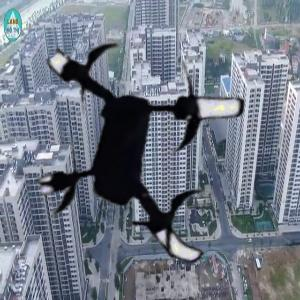drone: (19, 20, 277, 278)
